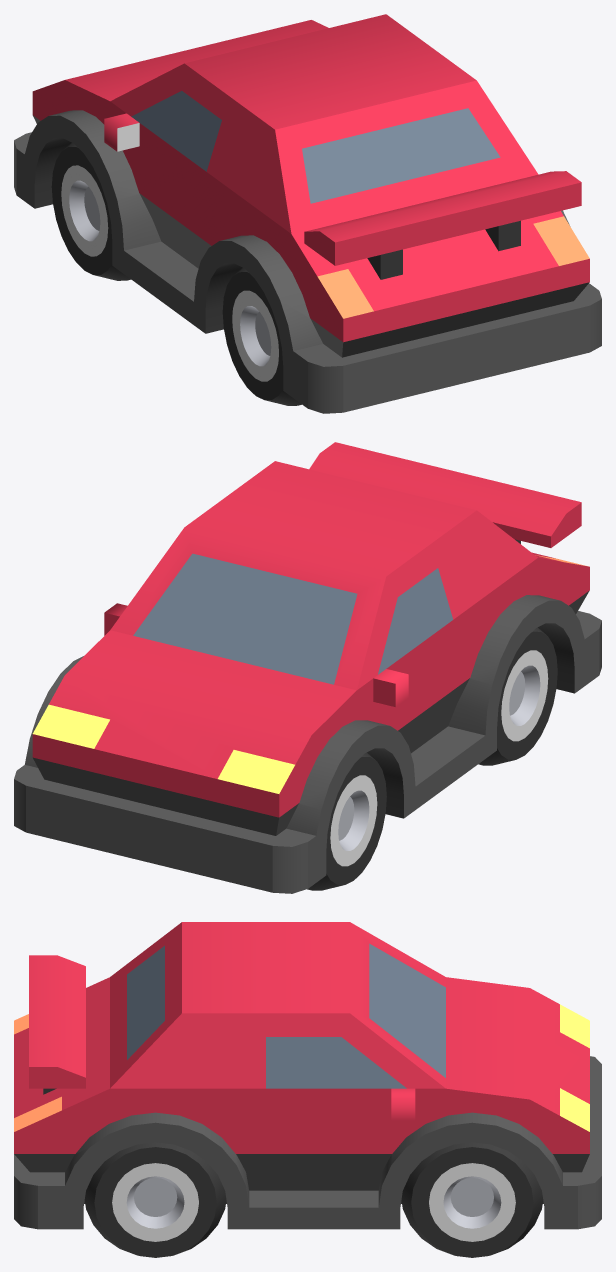
File: sedanSports.glb
3 views of the same model, one above another, from view 1: azimuth 30°, elevation 25°; view 2: azimuth 150°, elevation 25°; view 3: azimuth 270°, elevation 25° (orthographic). The views are drawn at different scales.
Visible parts, largest first — view 1: body, spoiler, wheel_backLeft, wheel_frontLeft; view 2: body, spoiler, wheel_frontLeft, wheel_backLeft; view 3: body, wheel_backRight, wheel_frontRight, spoiler.
Boxes of the visible parts, x1=… form: body: x1=14, y1=14, x2=601, y2=413; spoiler: x1=304, y1=171, x2=581, y2=279; wheel_backLeft: x1=222, y1=267, x2=301, y2=405; wheel_frontLeft: x1=51, y1=142, x2=130, y2=280; body: x1=14, y1=461, x2=601, y2=893; spoiler: x1=309, y1=442, x2=581, y2=547; wheel_frontLeft: x1=307, y1=752, x2=386, y2=890; wheel_backLeft: x1=478, y1=627, x2=557, y2=765; body: x1=14, y1=922, x2=601, y2=1229; wheel_backRight: x1=84, y1=1142, x2=226, y2=1257; wheel_frontRight: x1=401, y1=1142, x2=543, y2=1257; spoiler: x1=29, y1=955, x2=85, y2=1094.
Size of the model in its own units: 1.3 by 1.1 by 2.45.
